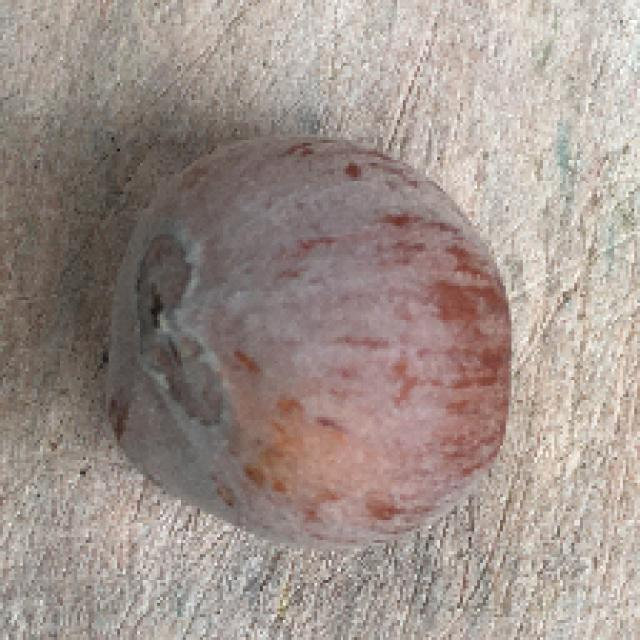qualityHazelnut: (98, 133, 518, 549)
